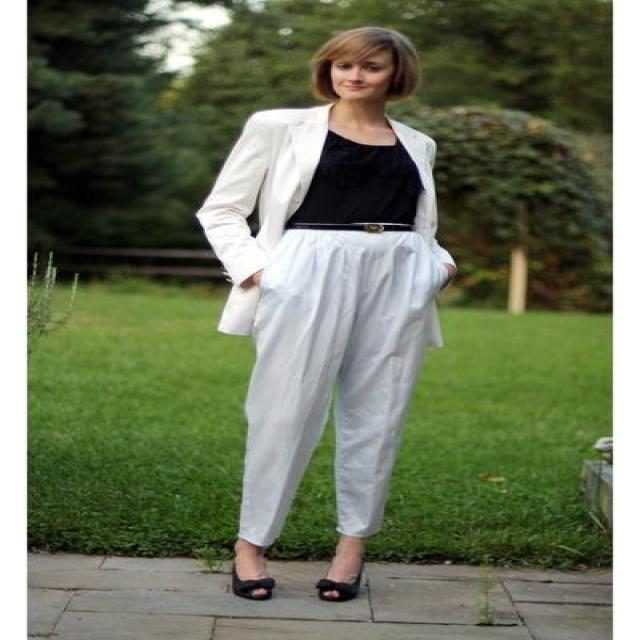jacket: (196, 104, 454, 344)
pants: (238, 229, 440, 544)
shirt: (302, 130, 440, 212)
shoe: (232, 568, 363, 600)
